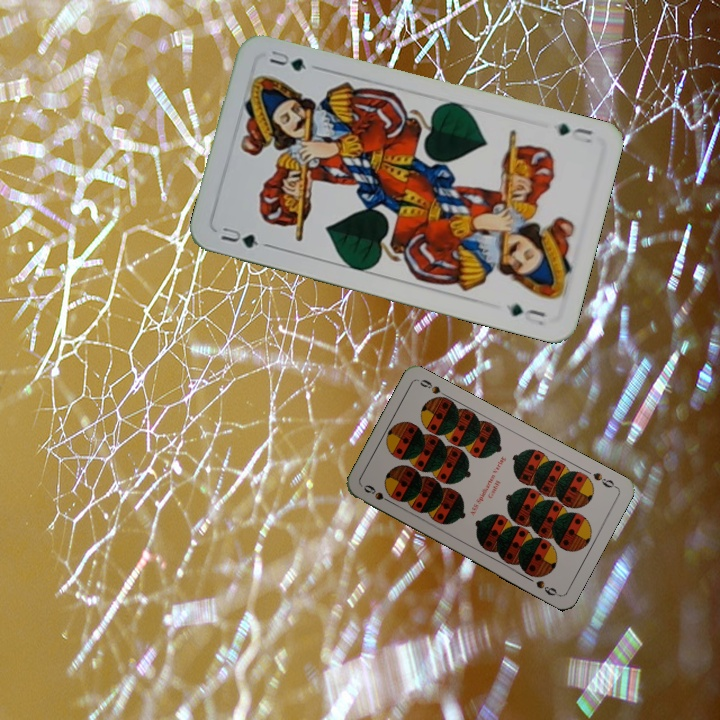GU: (217, 222, 271, 251), (554, 119, 595, 146)
S9: (359, 481, 397, 507), (589, 468, 620, 491)
